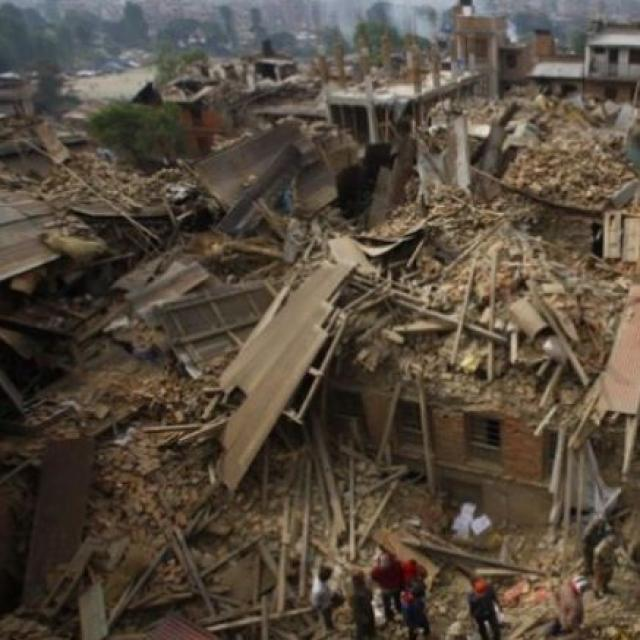collapsed_building: (324, 220, 638, 491), (3, 118, 315, 267), (448, 83, 639, 210)
